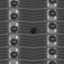dust: (30, 26, 36, 34)
